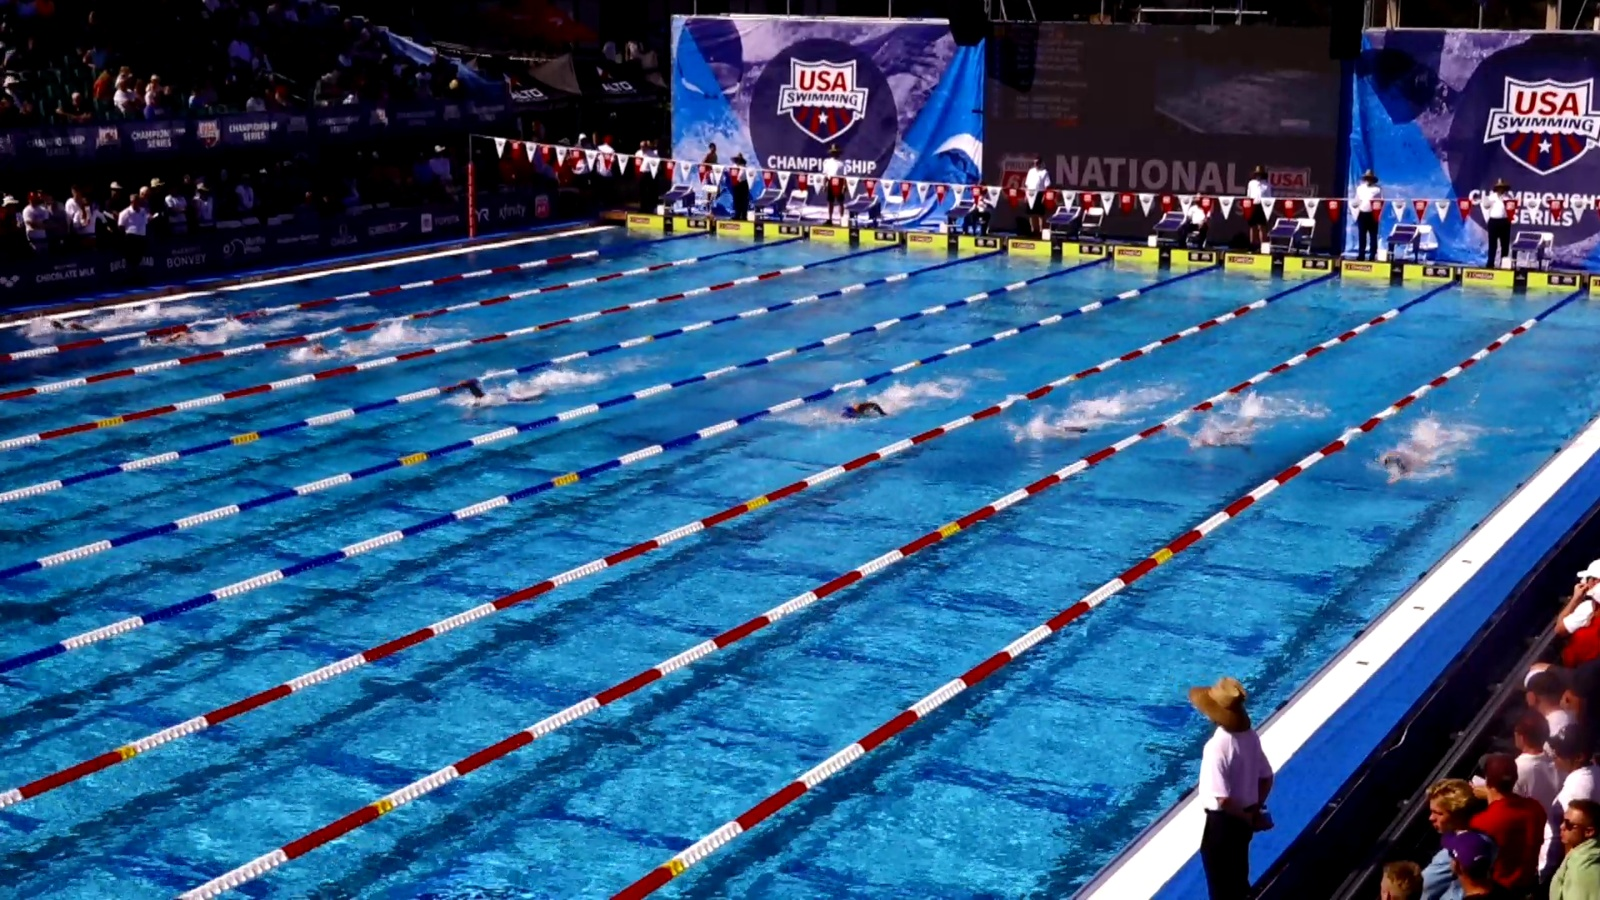swimmerw: (446, 380, 549, 420), (1186, 415, 1258, 460), (1381, 440, 1445, 484), (293, 337, 385, 364), (1034, 405, 1086, 452), (838, 395, 895, 427), (25, 316, 116, 327), (149, 331, 230, 343)
